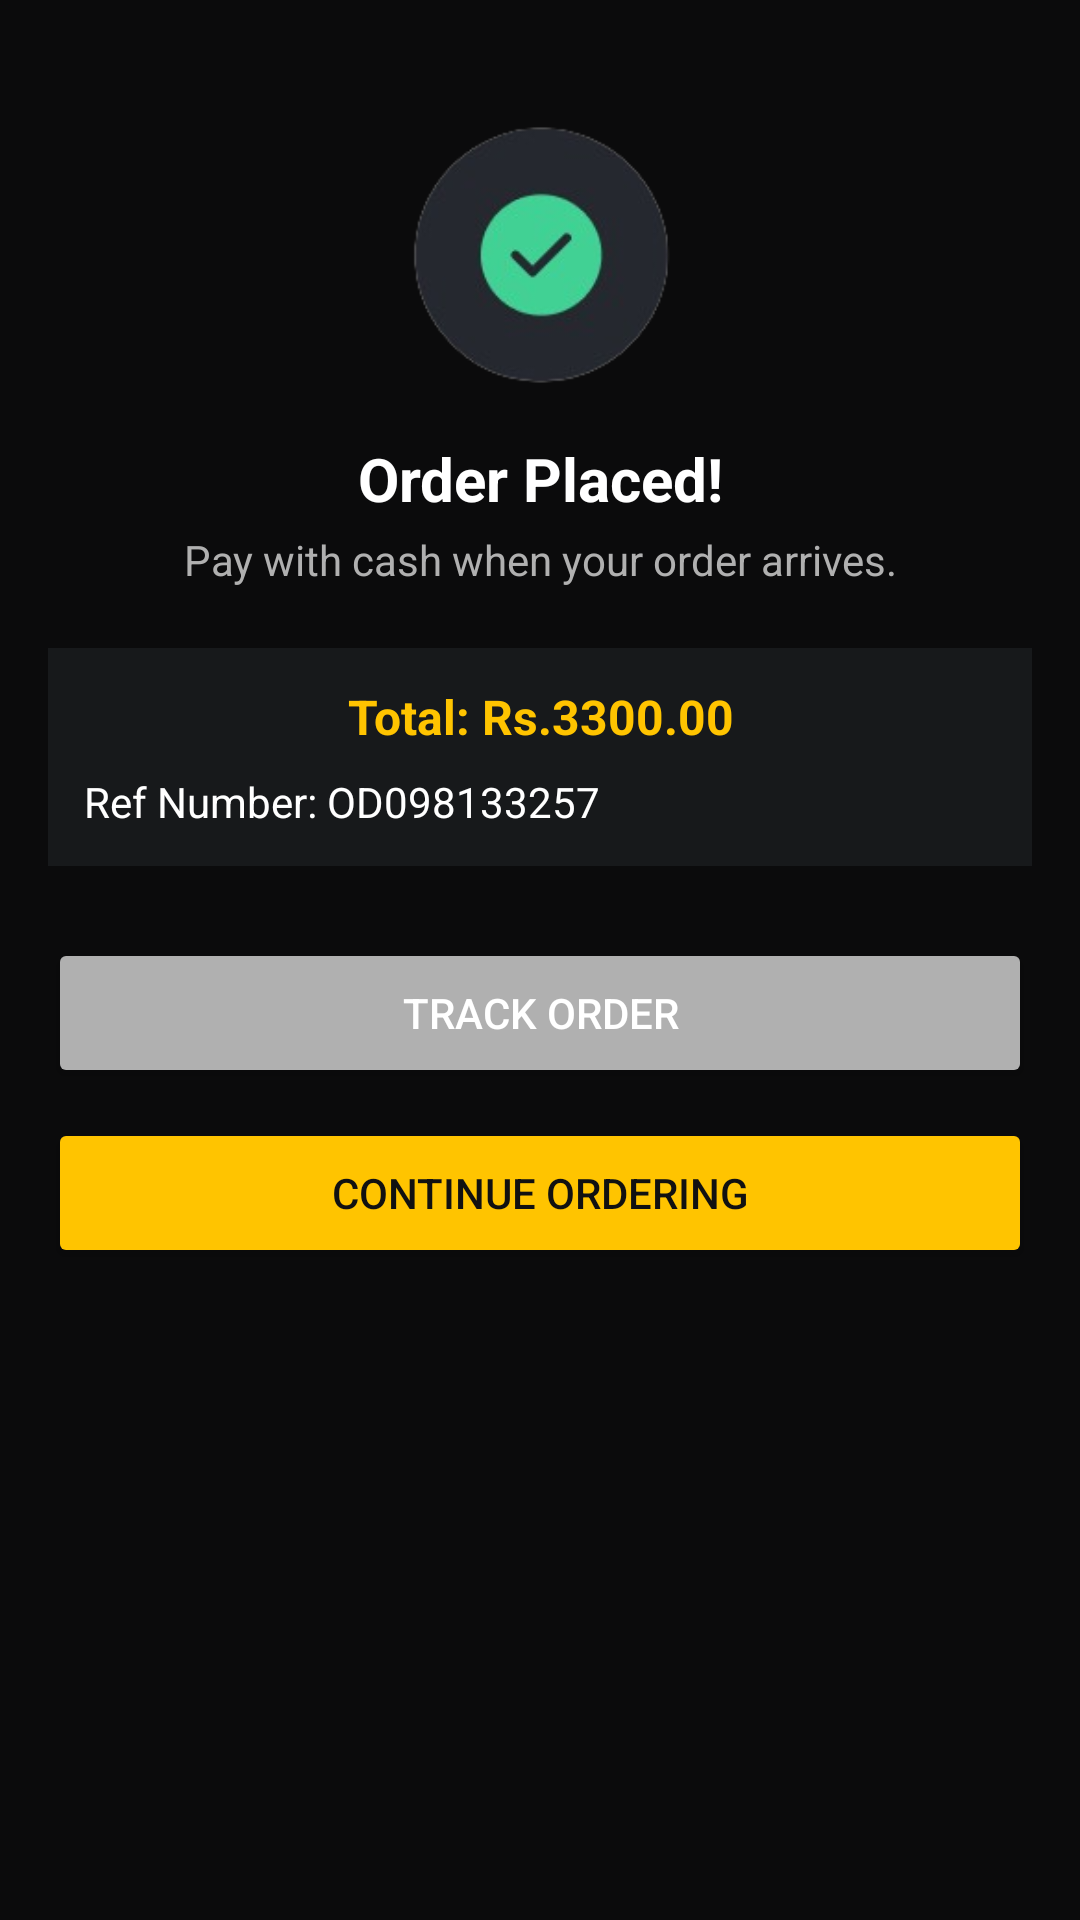

Icons on this 1080w x 1920h Android screen, each with its box as [x1, y1, x2, y2]:
done: [414, 127, 668, 383]
